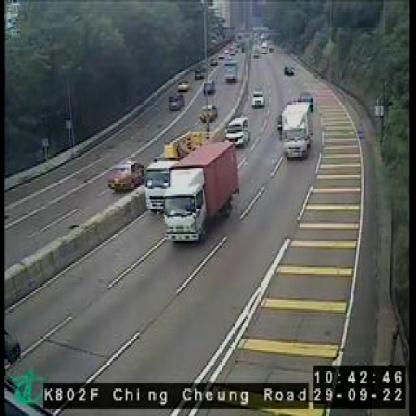Car: (107, 156, 148, 199), (222, 115, 251, 152), (165, 90, 182, 115), (296, 87, 314, 109), (247, 86, 264, 108), (199, 102, 217, 121), (279, 59, 299, 76), (202, 80, 214, 95), (250, 43, 261, 59), (192, 64, 202, 80), (177, 76, 188, 90), (210, 54, 218, 66), (217, 50, 224, 59)
Truck: (158, 138, 236, 254), (142, 126, 210, 210), (282, 99, 312, 161)
